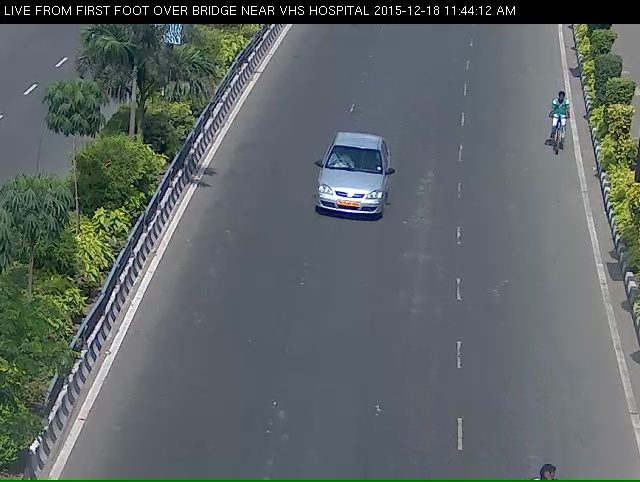Car: (297, 137, 404, 246)
